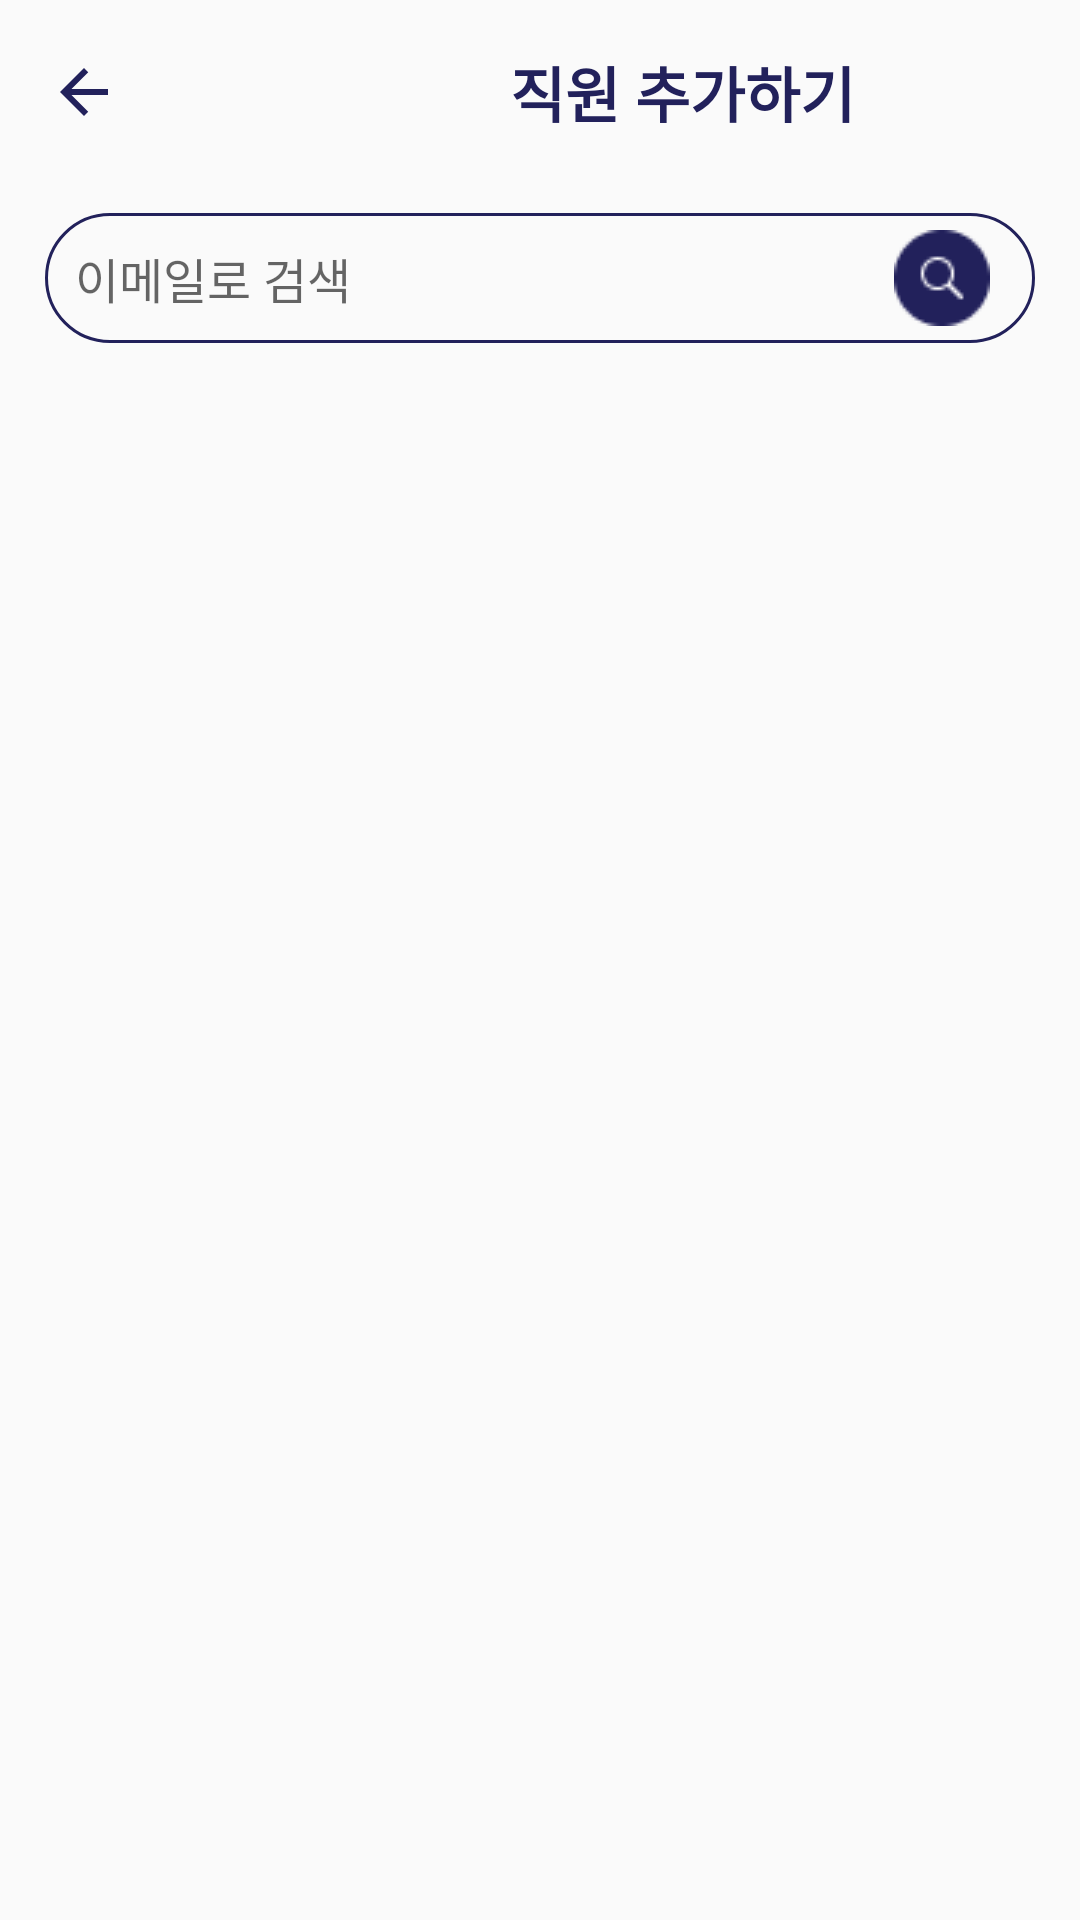

Icons on this 1080 x 1920 Android screen, each with the point to tap as (x,y):
back: (84,92)
search: (942,278)
